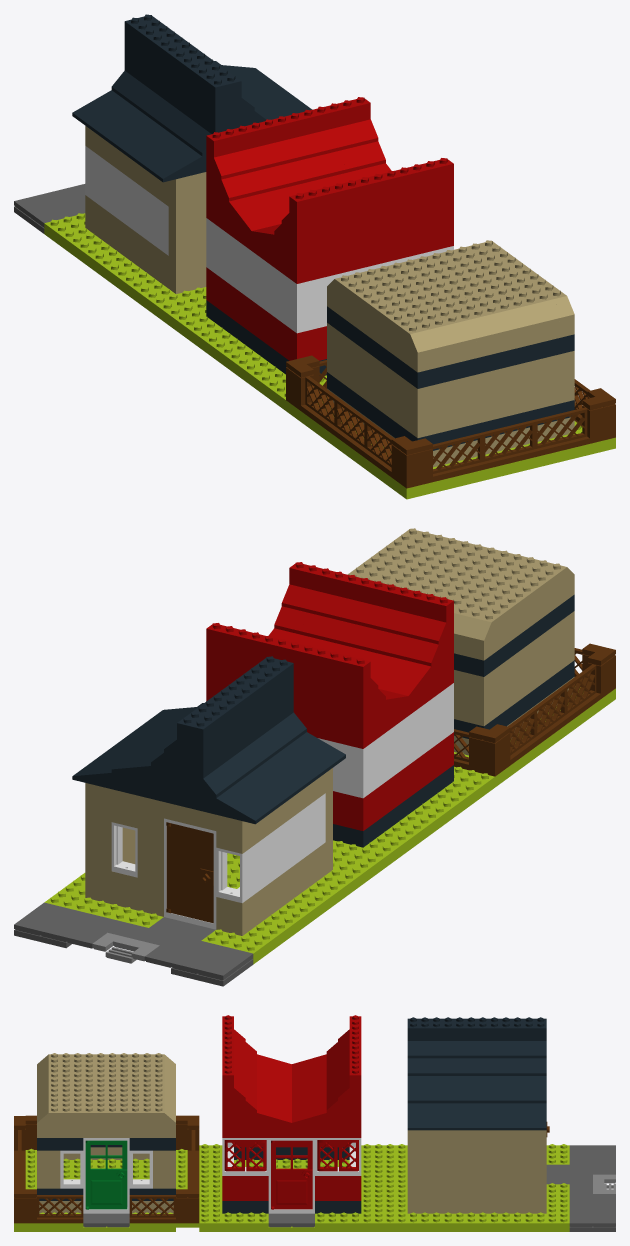
Rendered from Block2-lod2.fbx.
The picture shows the model from 3 angles, top to bottom: view 1: azimuth 30°, elevation 25°; view 2: azimuth 150°, elevation 25°; view 3: azimuth 270°, elevation 25°; orthographic projection. The views are drawn at different scales.
Visible parts, largest first — view 1: Material_5, Material_21, Material_26, Material_192, Material_119, Material_1, Material_199; view 2: Material_5, Material_21, Material_26, Material_119, Material_1, Material_192, Material_199, Material_315; view 3: Material_5, Material_21, Material_26, Material_119, Material_192, Material_199, Material_1, Material_28, Material_315.
Part boxes in pixels (bbox=[...]): Material_5: bbox=[85, 126, 574, 467]; Material_21: bbox=[206, 97, 453, 360]; Material_26: bbox=[72, 14, 574, 450]; Material_192: bbox=[286, 355, 615, 488]; Material_119: bbox=[44, 213, 615, 499]; Material_1: bbox=[85, 146, 453, 333]; Material_199: bbox=[14, 184, 85, 233]; Material_5: bbox=[85, 528, 574, 935]; Material_21: bbox=[206, 562, 453, 830]; Material_26: bbox=[72, 594, 574, 847]; Material_119: bbox=[44, 687, 615, 964]; Material_1: bbox=[111, 683, 453, 929]; Material_192: bbox=[166, 643, 615, 923]; Material_199: bbox=[14, 902, 253, 986]; Material_315: bbox=[92, 932, 159, 963]; Material_5: bbox=[37, 1053, 546, 1213]; Material_21: bbox=[222, 1015, 361, 1209]; Material_26: bbox=[37, 1017, 546, 1213]; Material_119: bbox=[14, 1144, 569, 1231]; Material_192: bbox=[14, 1115, 549, 1223]; Material_199: bbox=[83, 1145, 615, 1231]; Material_1: bbox=[60, 1138, 361, 1213]; Material_28: bbox=[85, 1140, 127, 1209]; Material_315: bbox=[593, 1174, 615, 1193].
Bounding box in the file's own units: 12.8 × 12.34 × 41.6.
